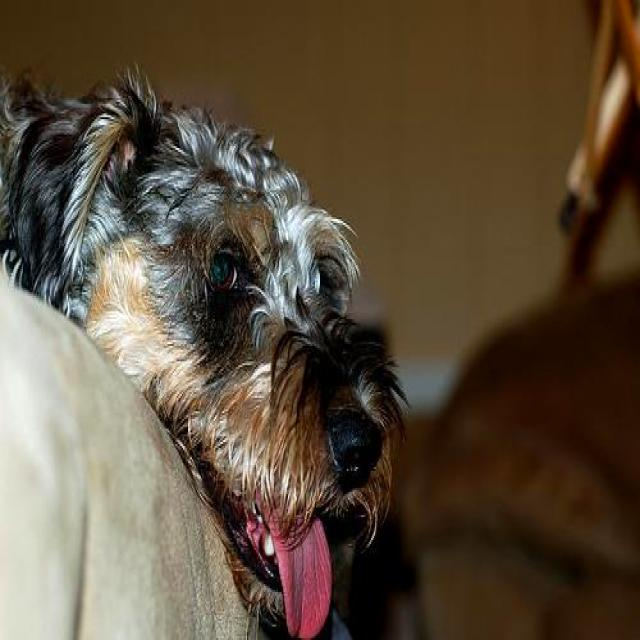standard_schnauzer: (3, 54, 407, 638)
